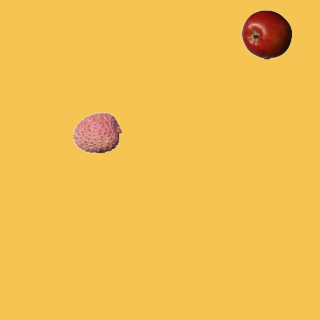Apple Braeburn: (241, 9, 291, 59)
Lychee: (72, 107, 122, 157)
